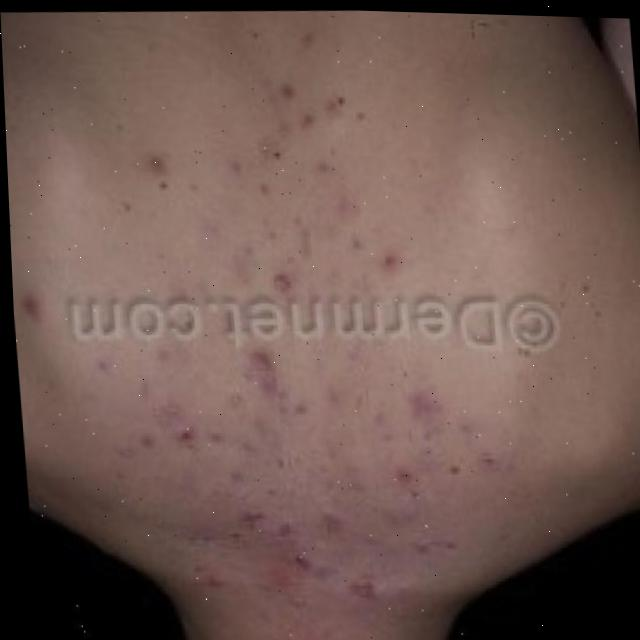Acne: (60, 84, 468, 640)
